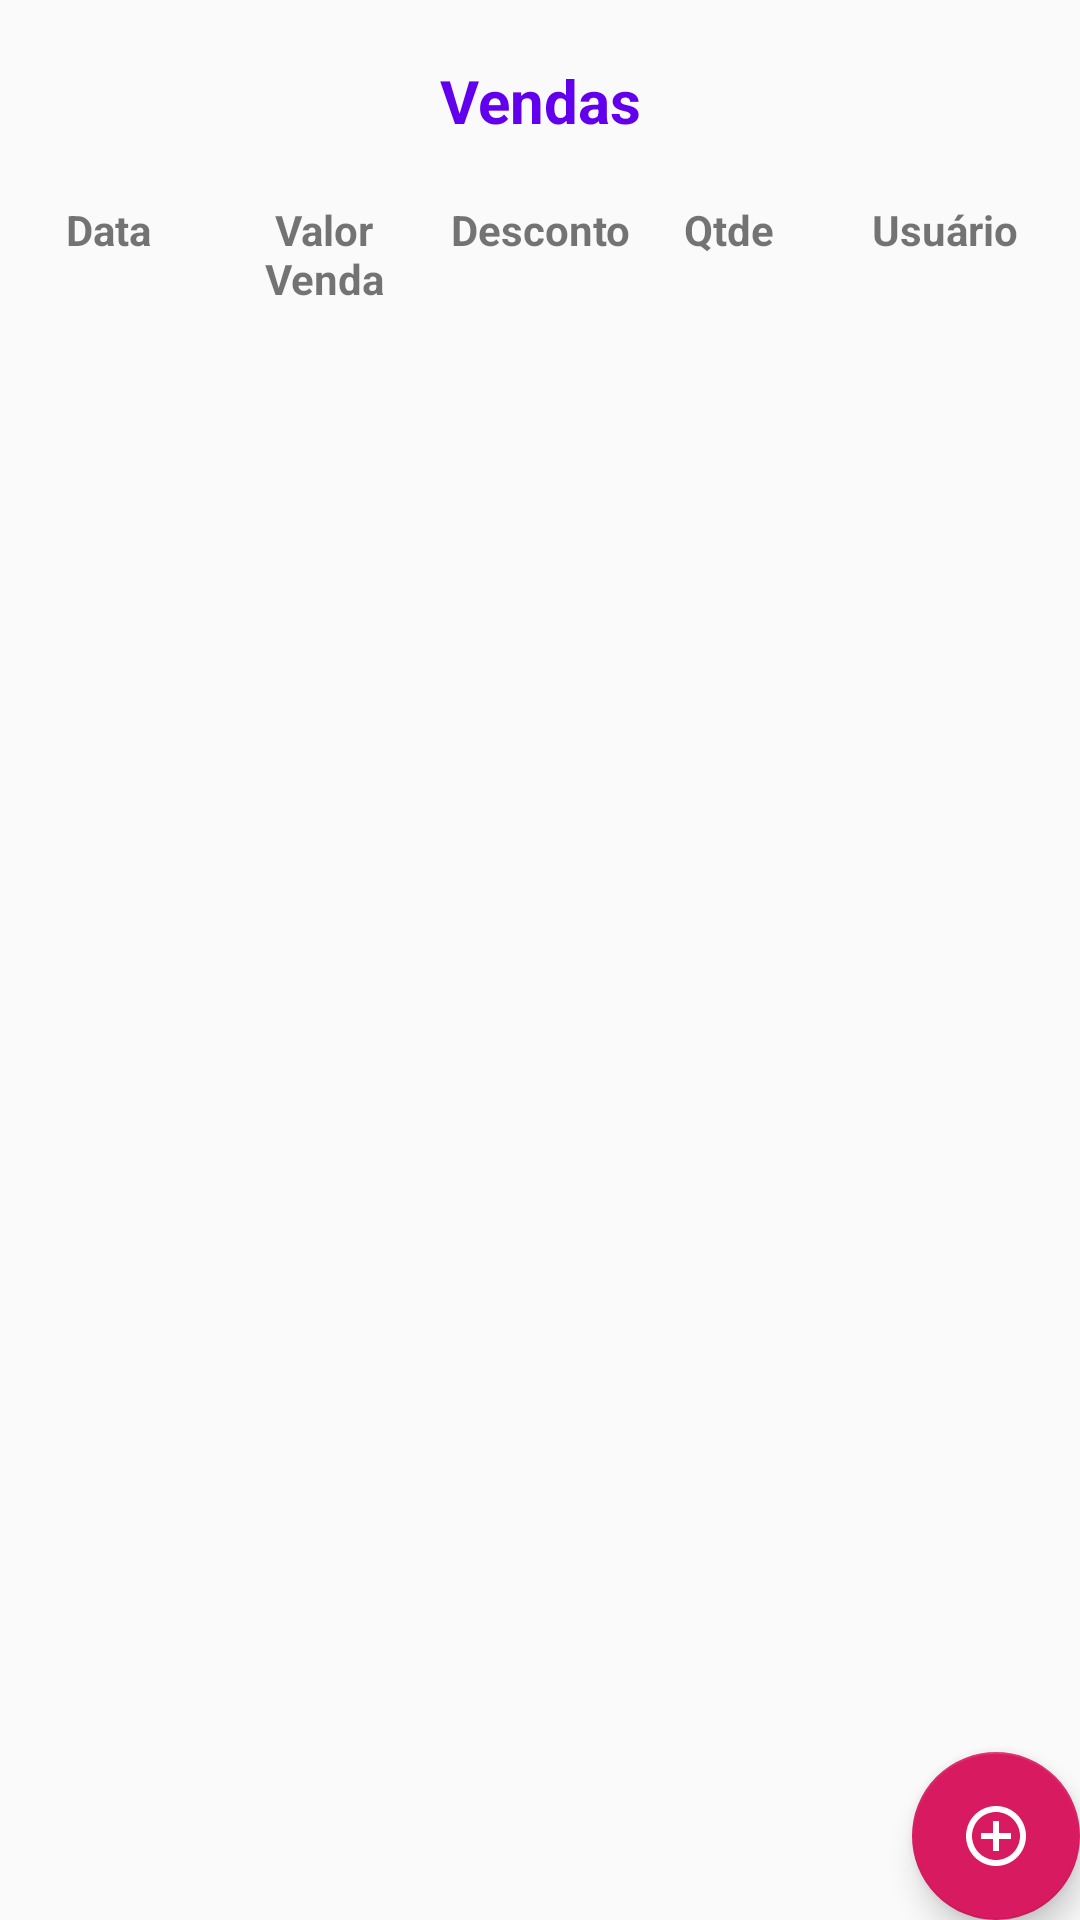

Where icons sit on this 1080×1920 app screen, as (x1, y1, x2, y2):
add circle: (912, 1752, 1080, 1920)
